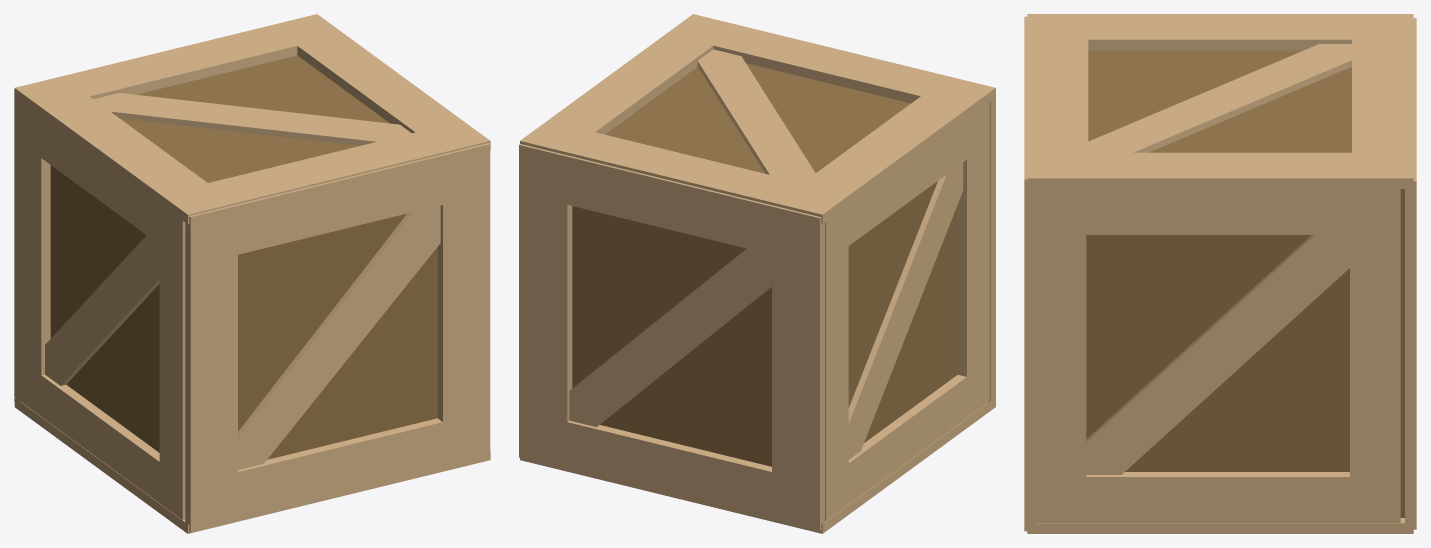
3 views of the same model, side by side, from view 1: azimuth 30°, elevation 25°; view 2: azimuth 150°, elevation 25°; view 3: azimuth 270°, elevation 25° (orthographic). The views are drawn at different scales.
Visible parts, largest first — view 1: Box_MDL; view 2: Box_MDL; view 3: Box_MDL.
Part boxes in pixels (<box>): Box_MDL: <box>14,14,490,533</box>; Box_MDL: <box>519,14,995,533</box>; Box_MDL: <box>1024,14,1416,533</box>.
Bounding box in the file's own units: 4.09 × 4.12 × 4.12.
